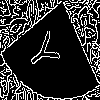Y: (25, 25, 67, 77)
